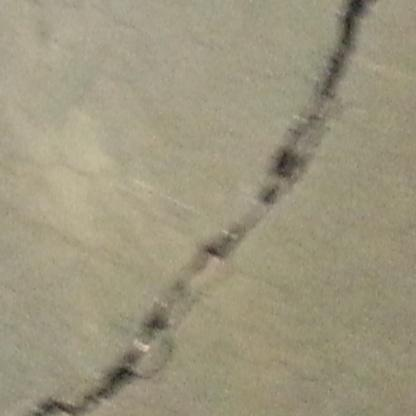Cracks: (172, 0, 392, 296), (15, 305, 179, 416)
